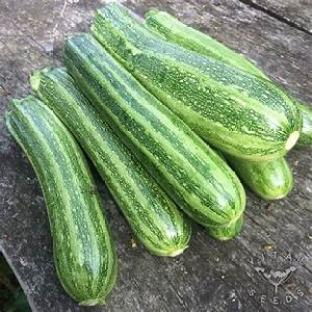Zucchini: (65, 35, 245, 229), (92, 4, 301, 161), (31, 68, 191, 256), (7, 96, 116, 305), (146, 10, 270, 80), (225, 155, 293, 199), (297, 101, 311, 146)
